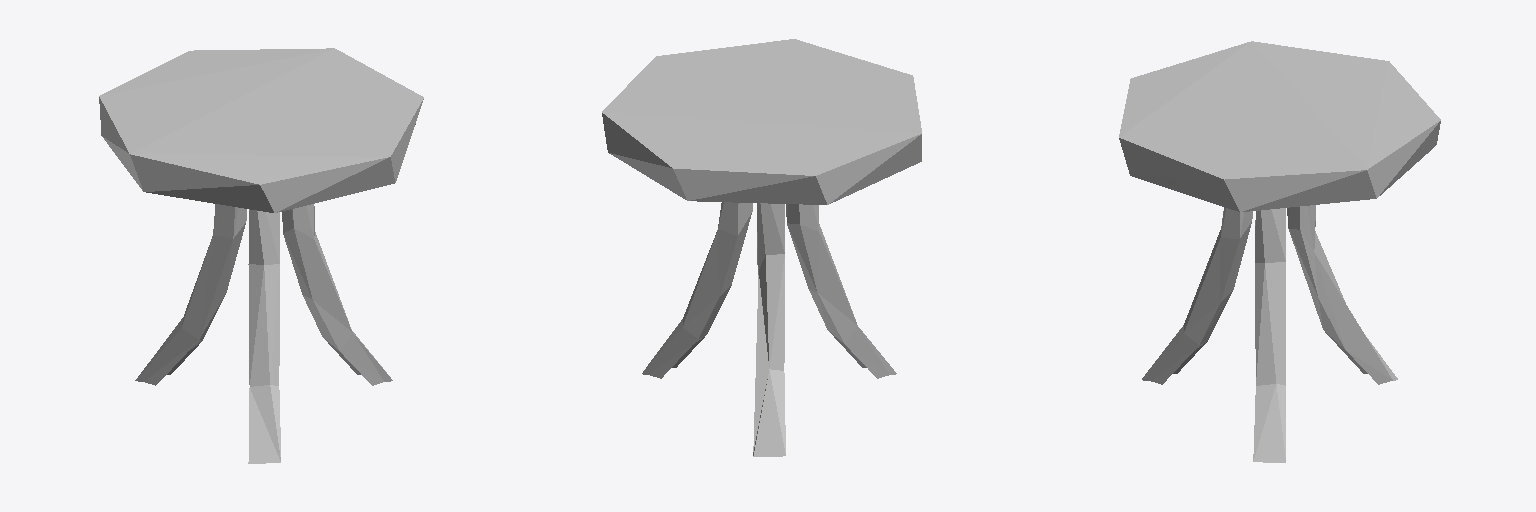
Rendered from tableSmall.obj.
3 views of the same model, side by side, from view 1: azimuth 30°, elevation 25°; view 2: azimuth 150°, elevation 25°; view 3: azimuth 270°, elevation 25° (orthographic).
Bounding box in the file's own units: 0.802 × 0.7996 × 0.798.